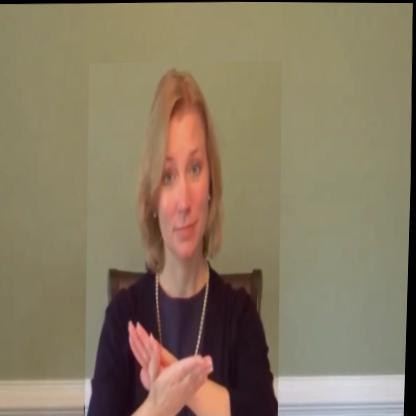NiceToMeetYou: (80, 60, 288, 416)
